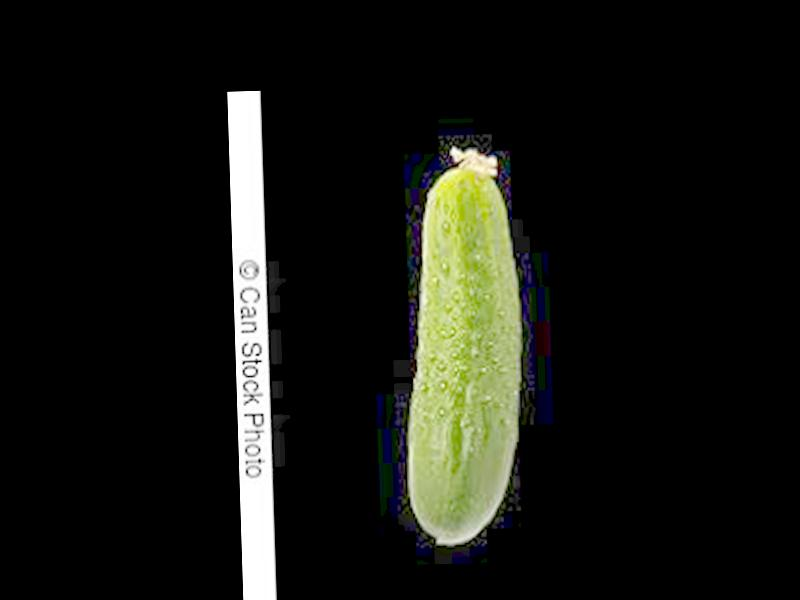Cucumber: (399, 145, 527, 546)
